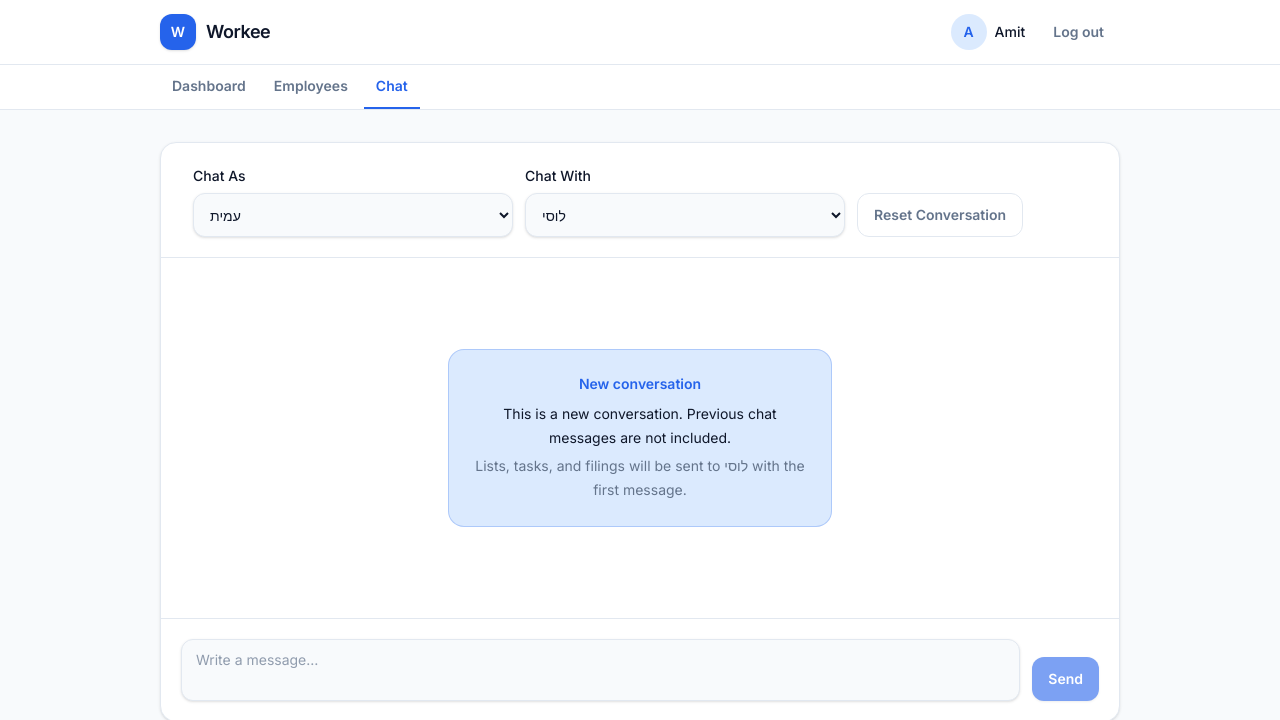
Test: Chat page › keeps a separate thread for each Chat As employee
The image size is (1280, 720).
Type "list for amit" into the text box labelled "message" at (601, 670), box top-left (181, 639), bottom-right (1020, 701)
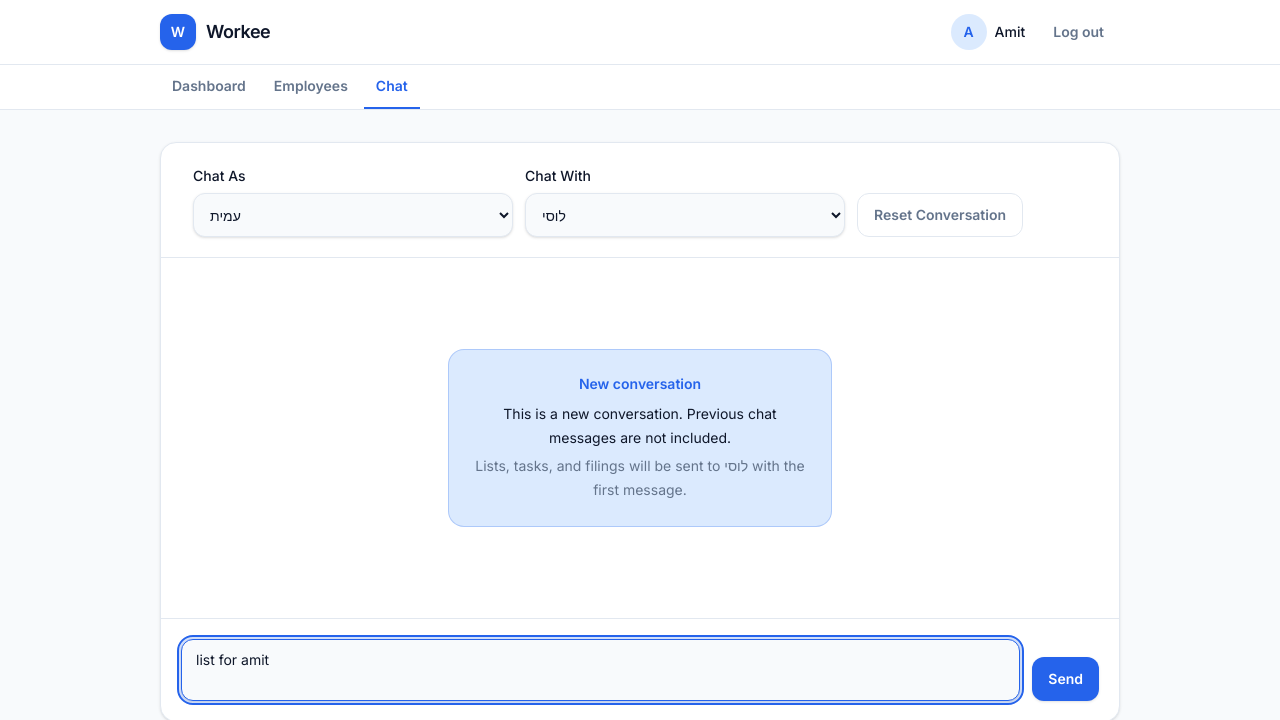
Click the button "Send" at (1066, 679), box top-left (1032, 657), bottom-right (1099, 701)
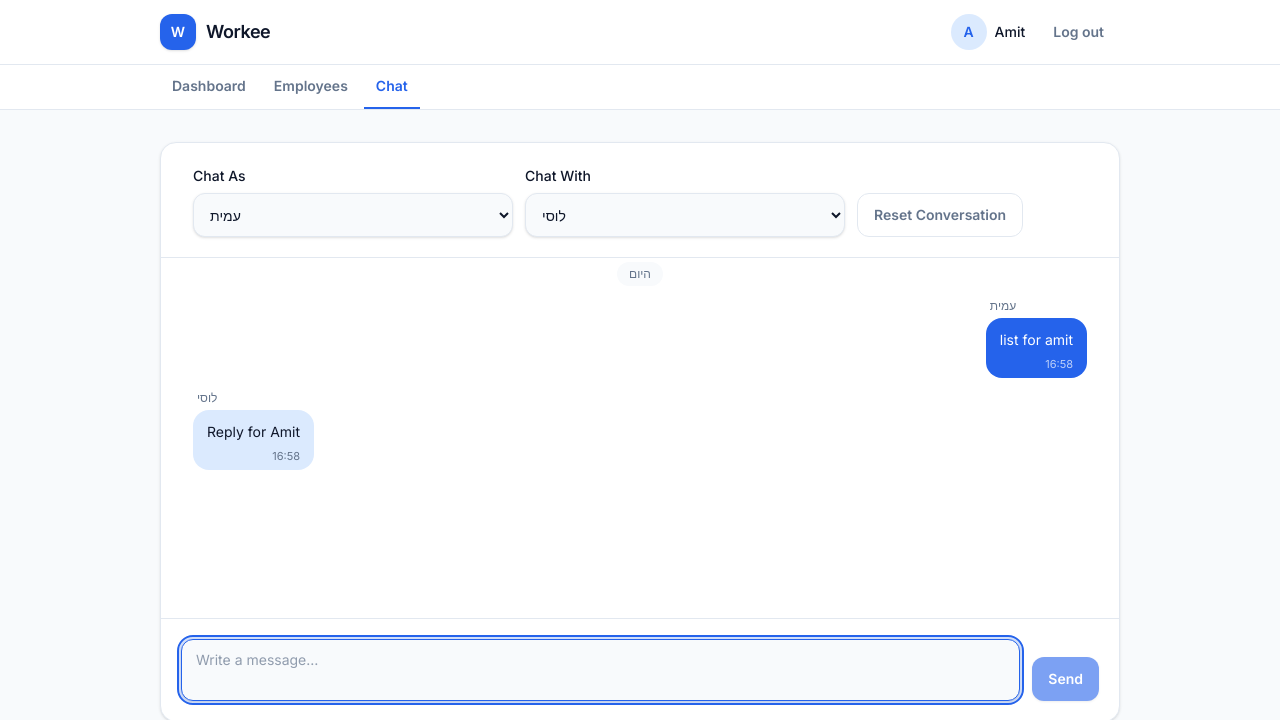
Now the text "Reply for Amit" is shown, box top-left (207, 420), bottom-right (300, 444)
Select "טל" in the dropdown labelled "Chat As" at (353, 215), box top-left (193, 193), bottom-right (513, 237)
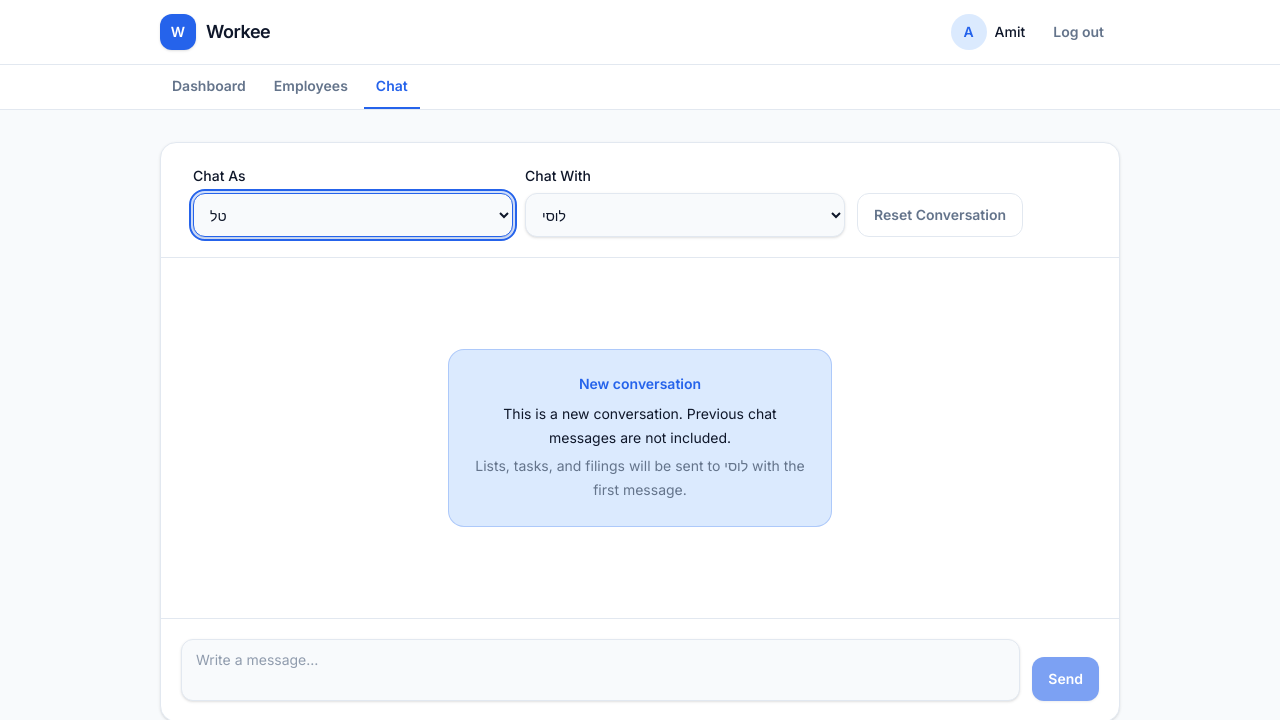
Now the text "list for amit" is gone
Now the text "Reply for Amit" is gone
Type "list for tal" into the text box labelled "message" at (601, 670), box top-left (181, 639), bottom-right (1020, 701)
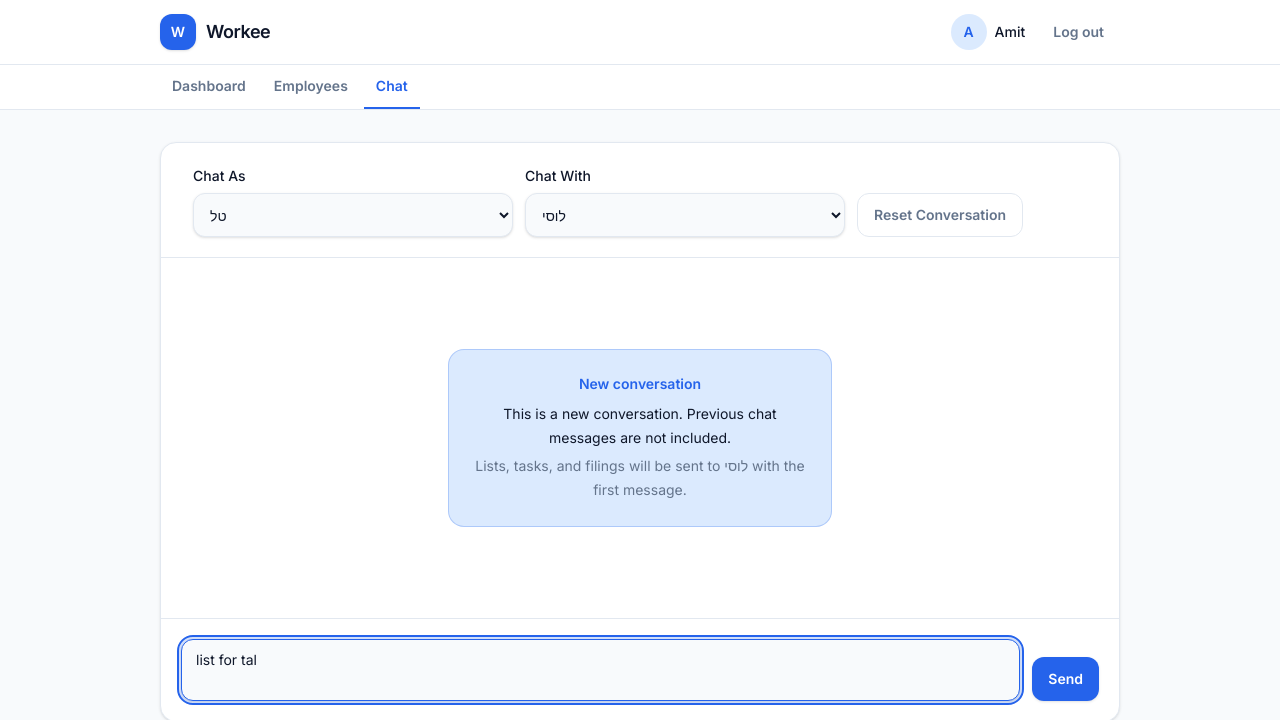
Click the button "Send" at (1066, 679), box top-left (1032, 657), bottom-right (1099, 701)
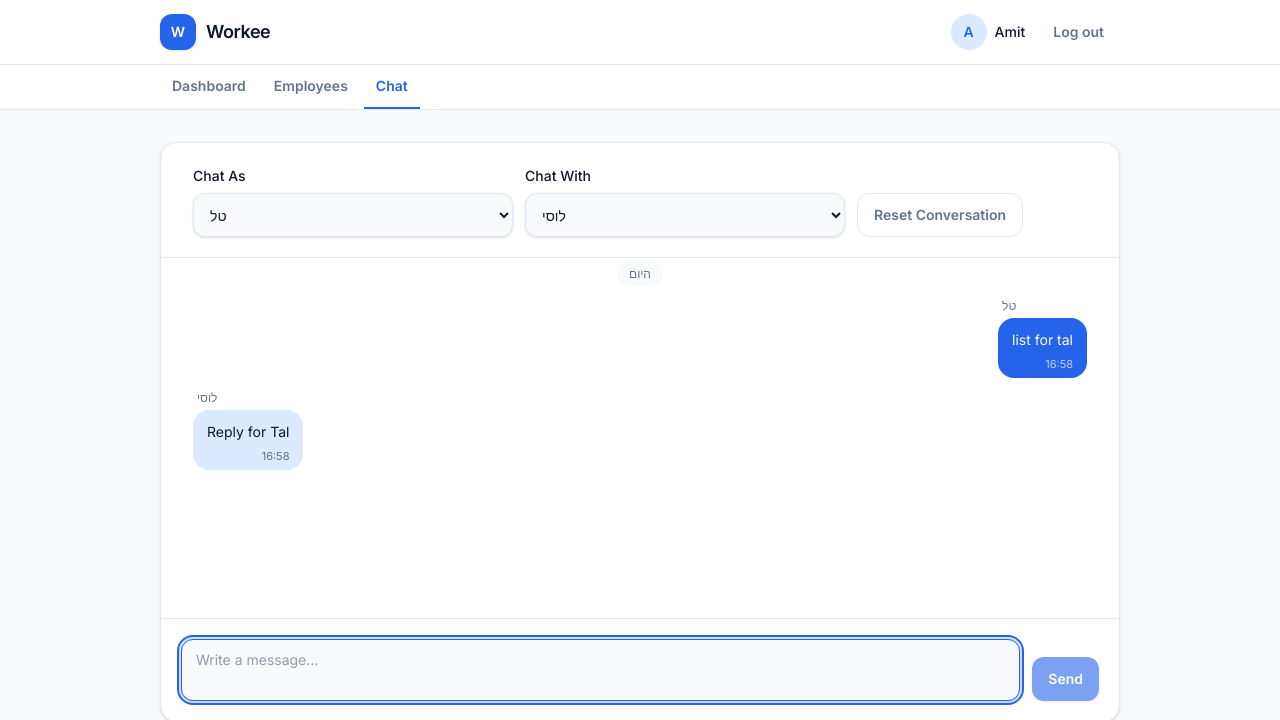
Now the text "Reply for Tal" is shown, box top-left (207, 420), bottom-right (290, 444)
Select "עמית" in the dropdown labelled "Chat As" at (353, 215), box top-left (193, 193), bottom-right (513, 237)
(page scrolled)
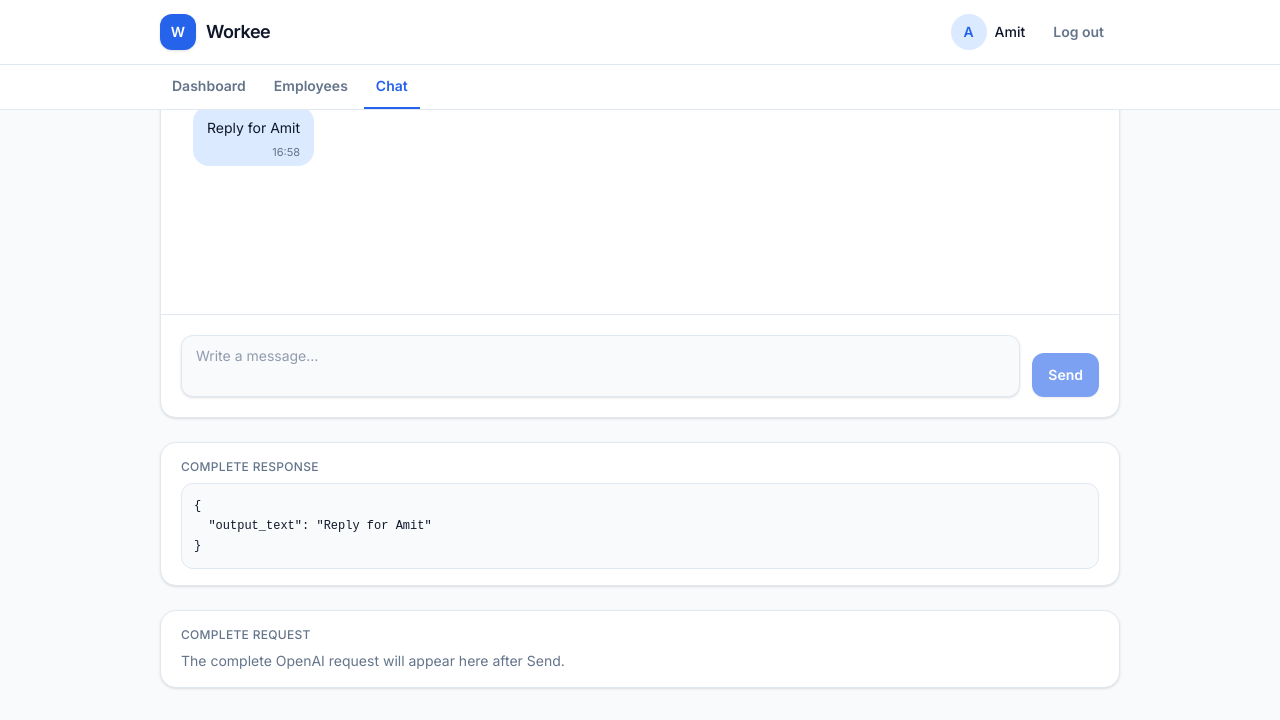
Now the text "Reply for Amit" is shown, box top-left (207, 116), bottom-right (300, 140)
Now the element with test id "llm-complete-response" shows "Reply for Amit", box top-left (194, 499), bottom-right (432, 553)
Now the text "list for tal" is gone
